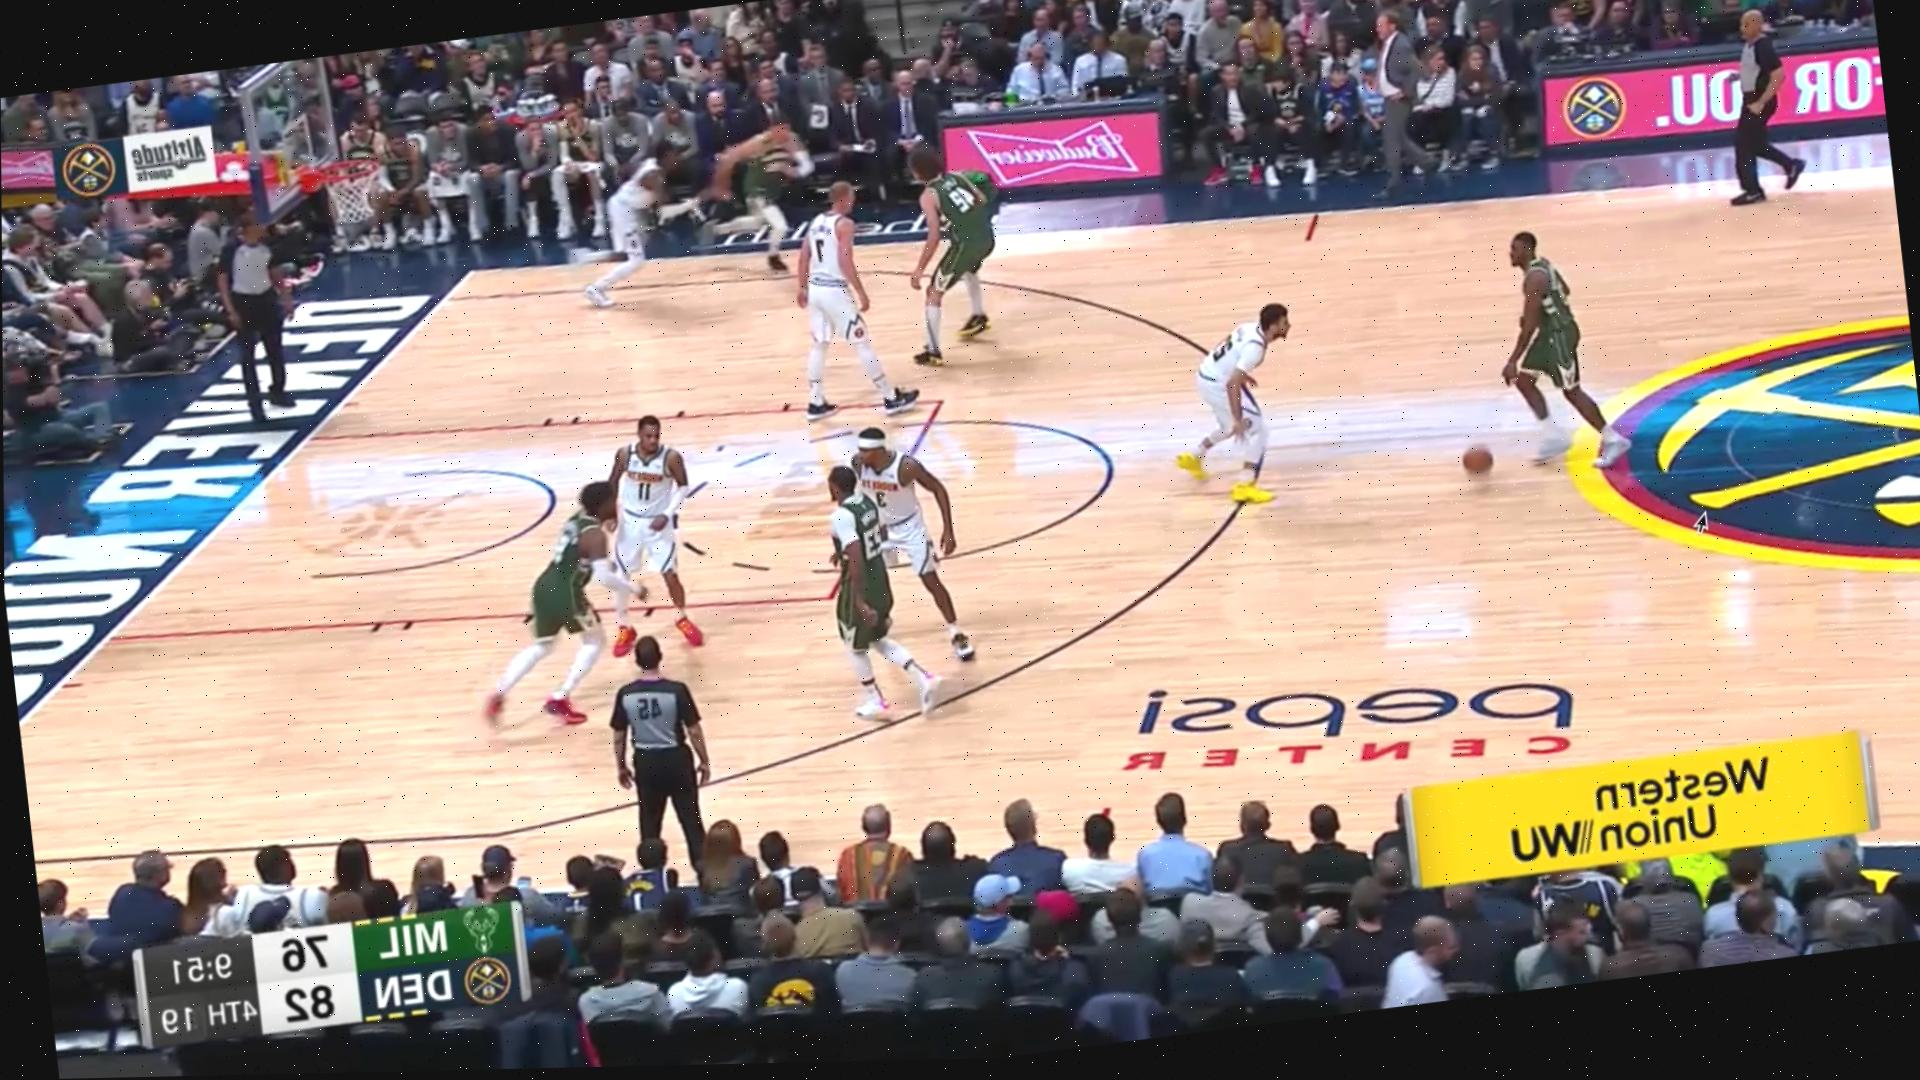no_foul: (779, 407, 972, 678)
